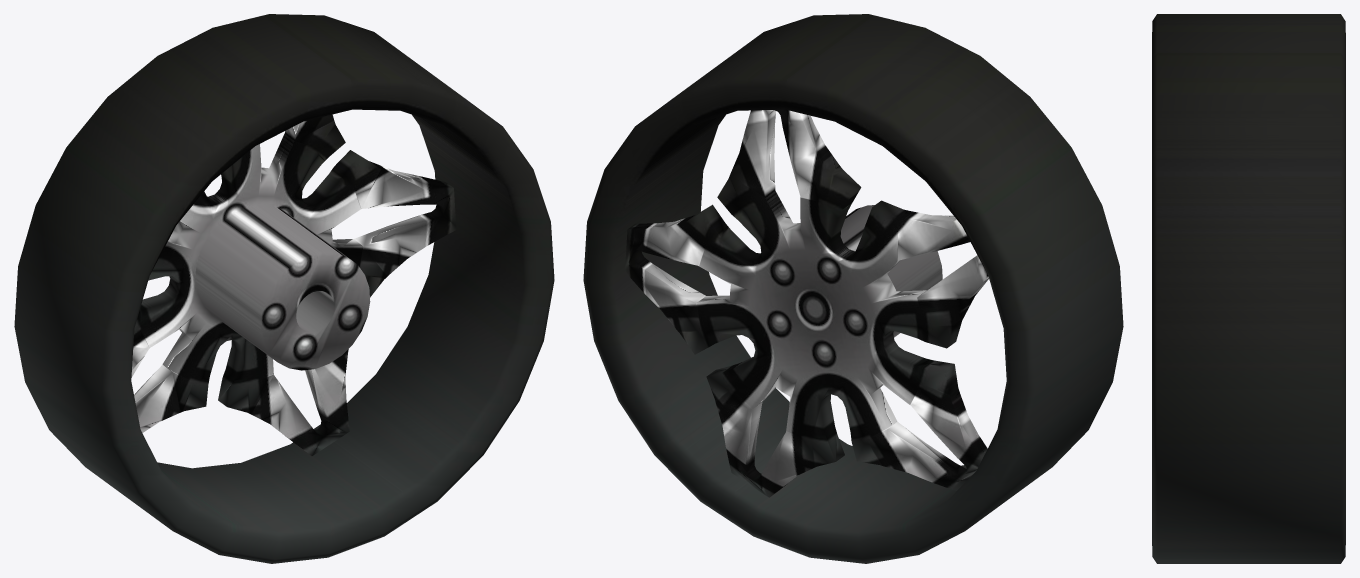
File: llantaDerechaTrasera.obj
The picture shows the model from 3 angles, left to right: view 1: azimuth 30°, elevation 25°; view 2: azimuth 150°, elevation 25°; view 3: azimuth 270°, elevation 25°; orthographic projection. The views are drawn at different scales.
Visible parts, largest first — view 1: llantaDT; view 2: llantaDT; view 3: llantaDT.
Part boxes in pixels (left/top/right/bottom): llantaDT: left=14, top=14, right=554, bottom=563; llantaDT: left=583, top=14, right=1123, bottom=563; llantaDT: left=1152, top=14, right=1345, bottom=563.
Bounding box in the file's own units: 0.7794 × 0.7779 × 0.2746.
1 material, 1 textured.
